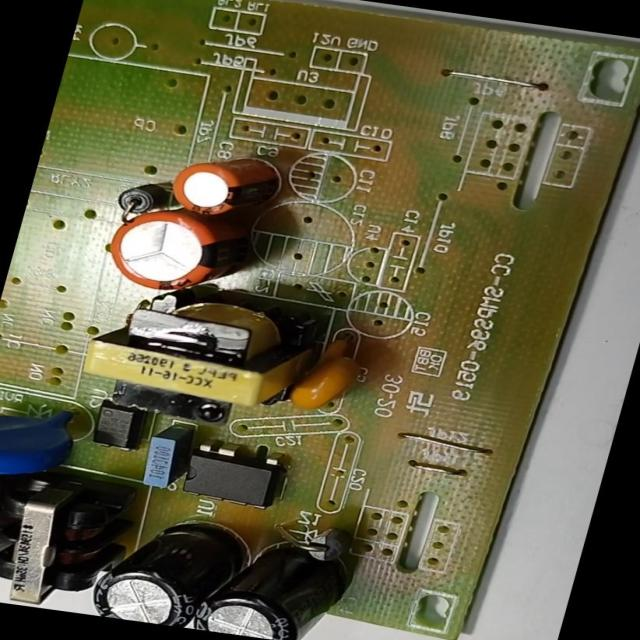Cap1: (96, 203, 286, 306)
Cap2: (163, 148, 284, 223)
Cap3: (80, 509, 228, 629)
Cap4: (190, 532, 360, 640)
MOSFET: (173, 439, 291, 513)
Mov: (0, 402, 82, 486)
Transformer: (66, 279, 324, 426), (0, 486, 111, 612)
